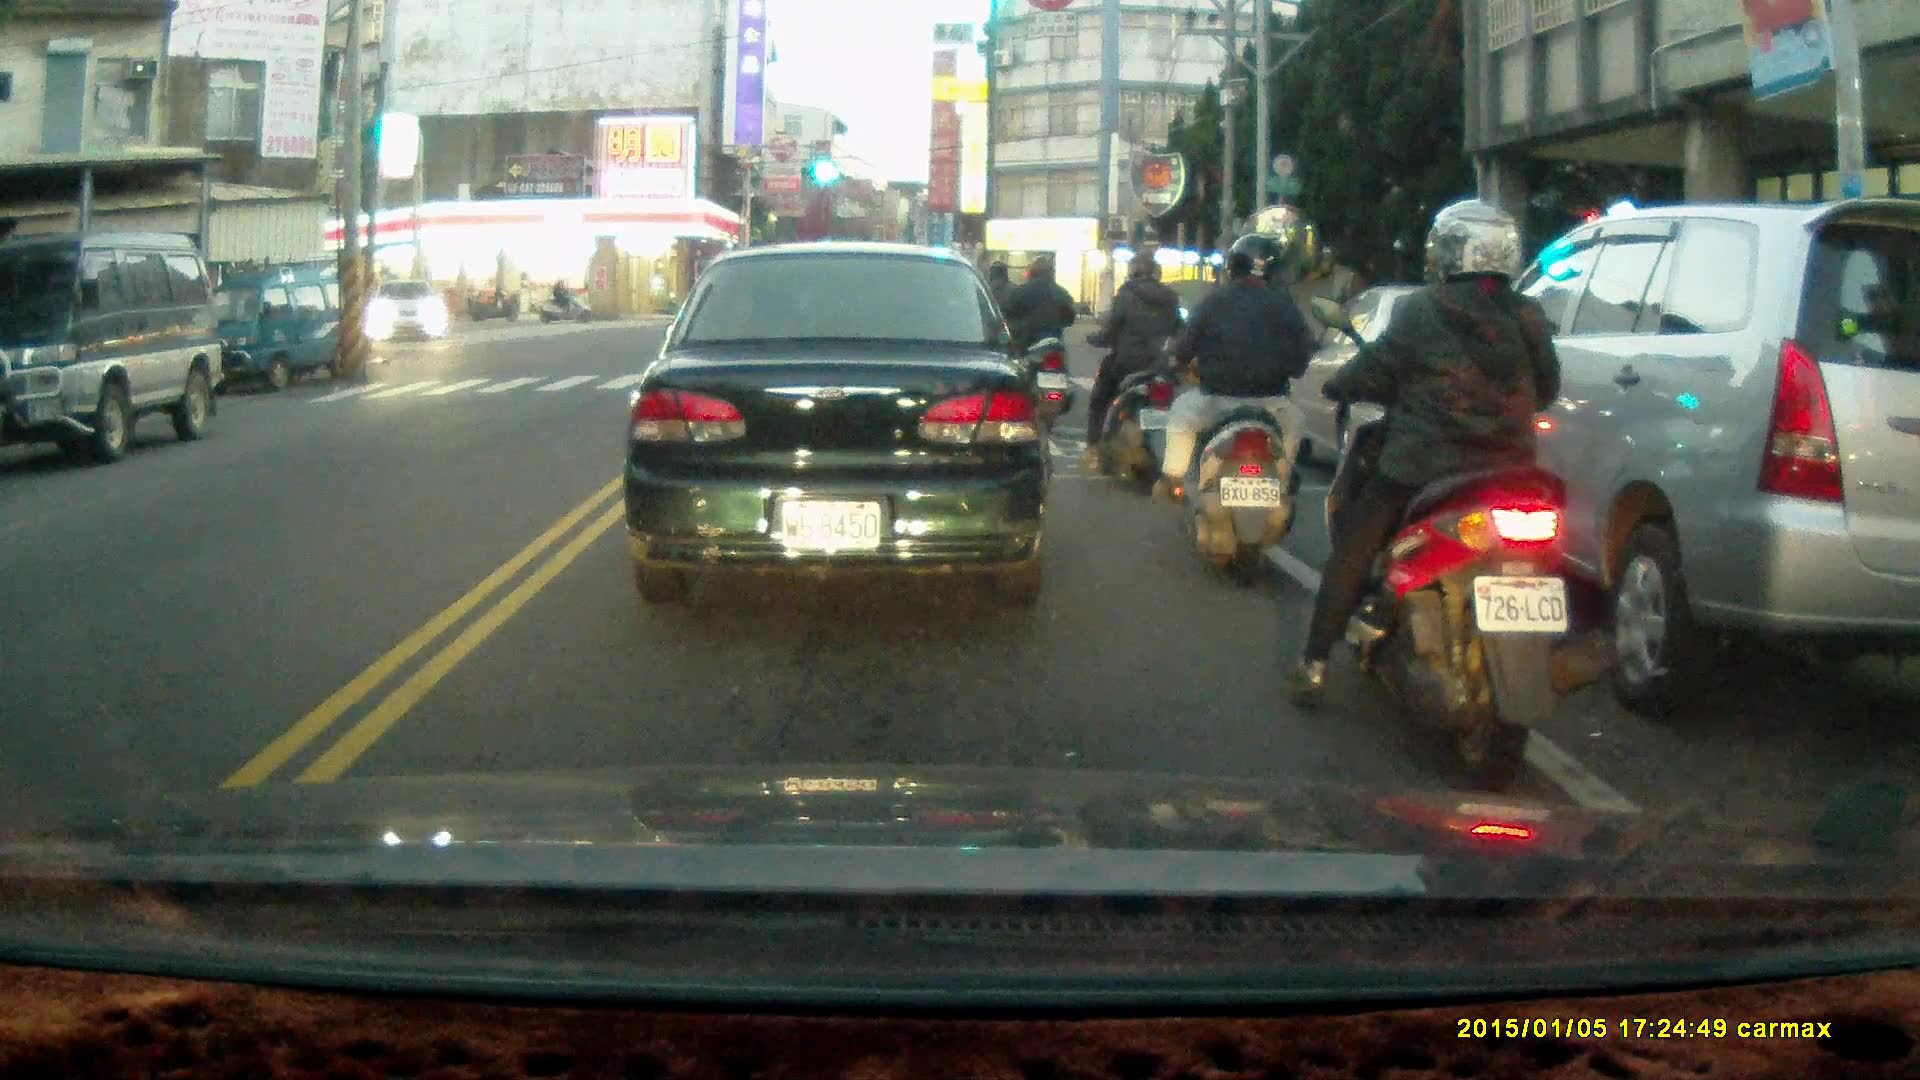rider: (1286, 198, 1588, 770), (1125, 222, 1302, 571), (1064, 254, 1182, 495), (1002, 257, 1076, 429), (975, 259, 1025, 377), (531, 278, 589, 322)
vehicle: (1394, 195, 1920, 712), (619, 239, 1052, 610), (1261, 284, 1560, 509), (1, 234, 214, 458), (188, 262, 367, 397), (372, 277, 451, 343)
